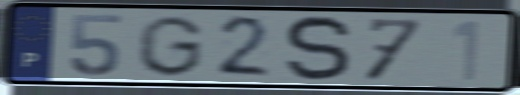1: (452, 19, 482, 83)
2: (212, 13, 276, 83)
5: (67, 11, 124, 78)
7: (363, 16, 424, 83)
G: (133, 13, 206, 79)
S: (282, 13, 355, 84)
